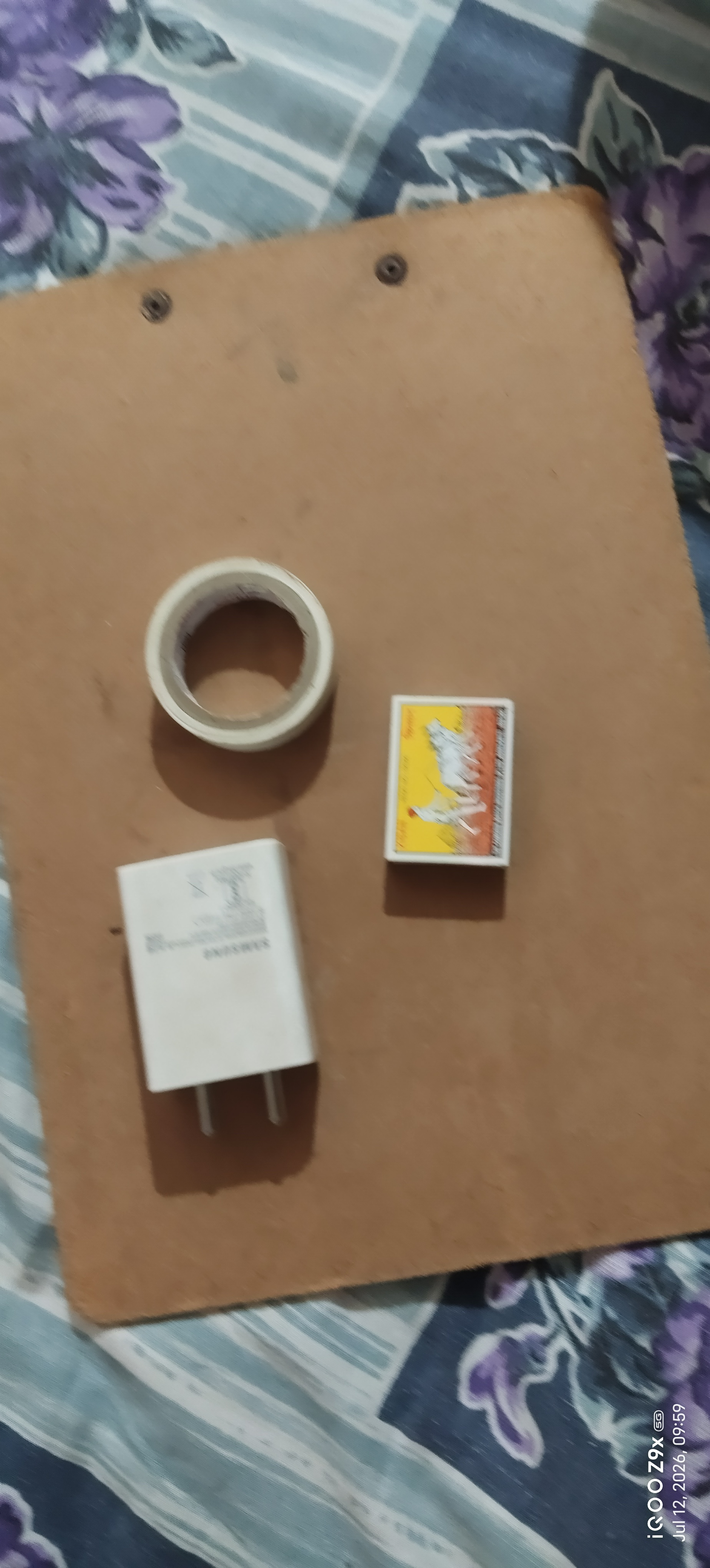charger: (109, 830, 335, 1146)
matchbox: (376, 683, 523, 887)
tape_roll: (131, 539, 352, 768)
